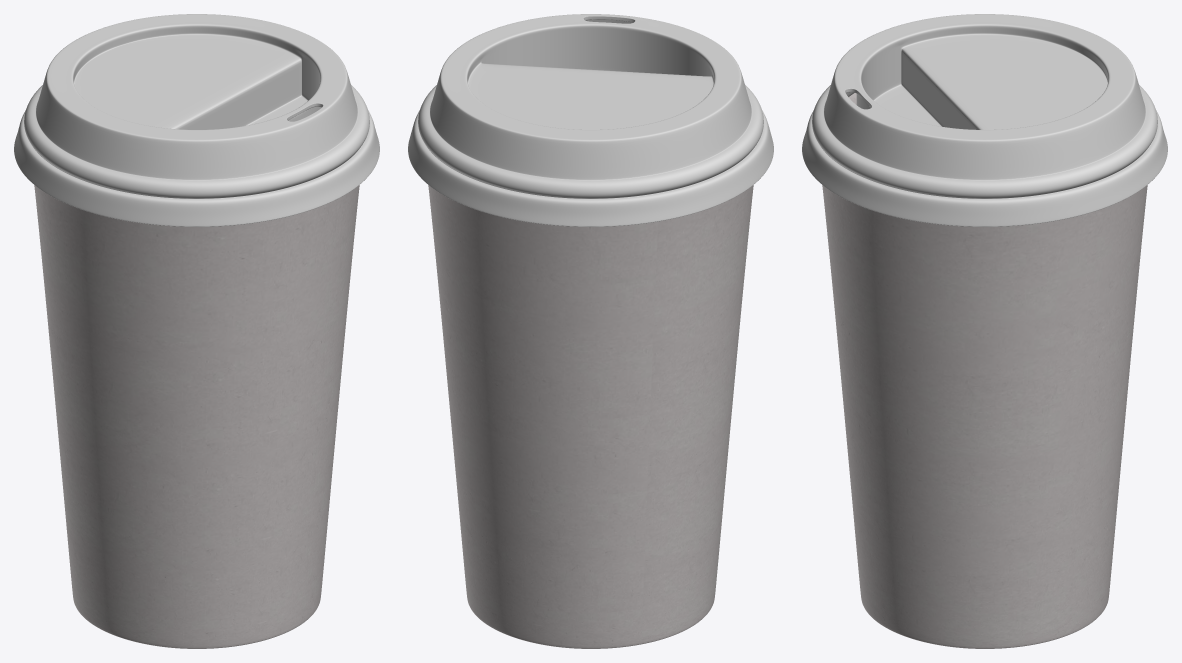
The model's file is becher.gltf.
3 renders of one model, left to right at view 1: azimuth 30°, elevation 25°; view 2: azimuth 150°, elevation 25°; view 3: azimuth 270°, elevation 25°, orthographic.
Visible parts, largest first — view 1: Becher, Deckel; view 2: Becher, Deckel; view 3: Becher, Deckel.
Boxes of the visible parts, x1,y1,x2,y2 form: Becher: (34, 185, 359, 648); Deckel: (14, 14, 379, 226); Becher: (428, 185, 753, 648); Deckel: (408, 14, 773, 226); Becher: (822, 93, 1147, 648); Deckel: (802, 14, 1167, 226).
Bounding box in the file's own units: 0.0988 × 0.1551 × 0.0988.
Materials: 2 (1 with a texture image).
